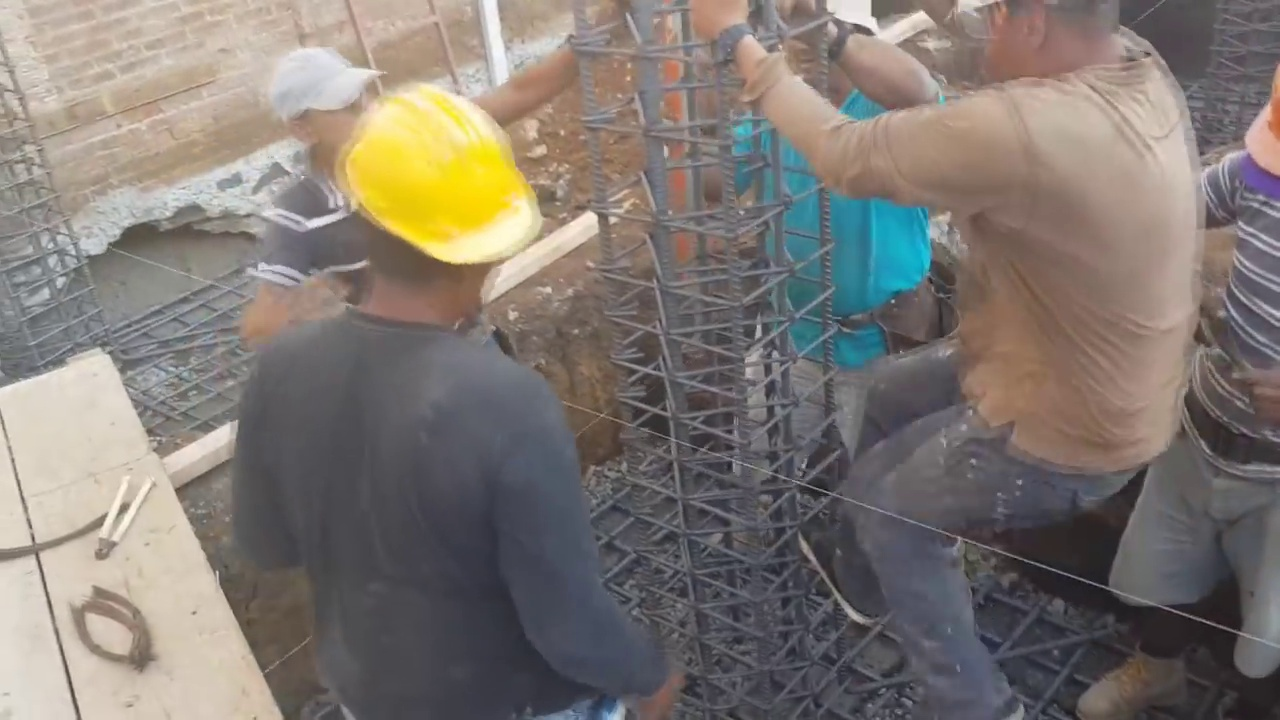helmet: (344, 90, 544, 268)
helmet-off: (957, 0, 1130, 89), (260, 44, 379, 165), (767, 3, 882, 119)
helmet-on: (332, 87, 546, 347)
person: (727, 18, 1205, 720), (233, 91, 641, 720), (700, 0, 962, 599), (1090, 65, 1280, 720), (250, 39, 397, 329)
